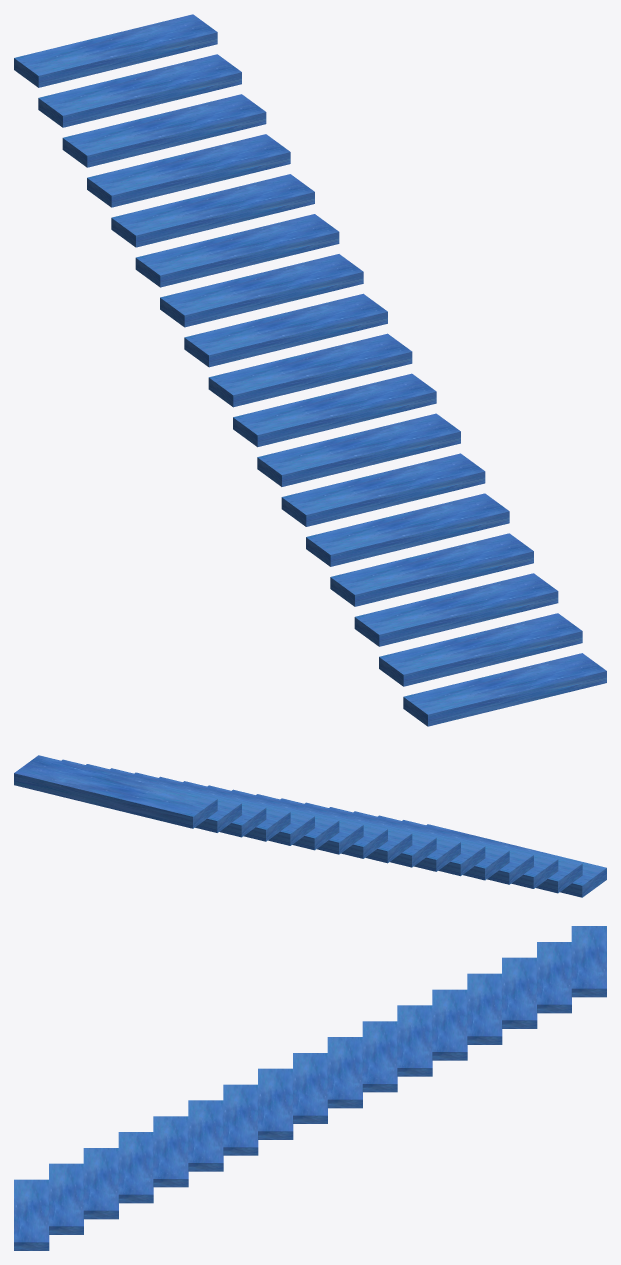
3 views of the same model, one above another, from view 1: azimuth 30°, elevation 25°; view 2: azimuth 150°, elevation 25°; view 3: azimuth 270°, elevation 25° (orthographic). The views are drawn at different scales.
Parts seen in each view (by area): view 1: SM_DK_8m_Steps_01_LOD0; view 2: SM_DK_8m_Steps_01_LOD0; view 3: SM_DK_8m_Steps_01_LOD0.
Boxes of the visible parts, box(x1,y1,x2,y2) form: SM_DK_8m_Steps_01_LOD0: box(14, 14, 606, 726); SM_DK_8m_Steps_01_LOD0: box(14, 755, 606, 897); SM_DK_8m_Steps_01_LOD0: box(14, 926, 606, 1250).
Size of the model in its own units: 2 by 3.9 by 8.
Materials: 1 (1 with a texture image).
